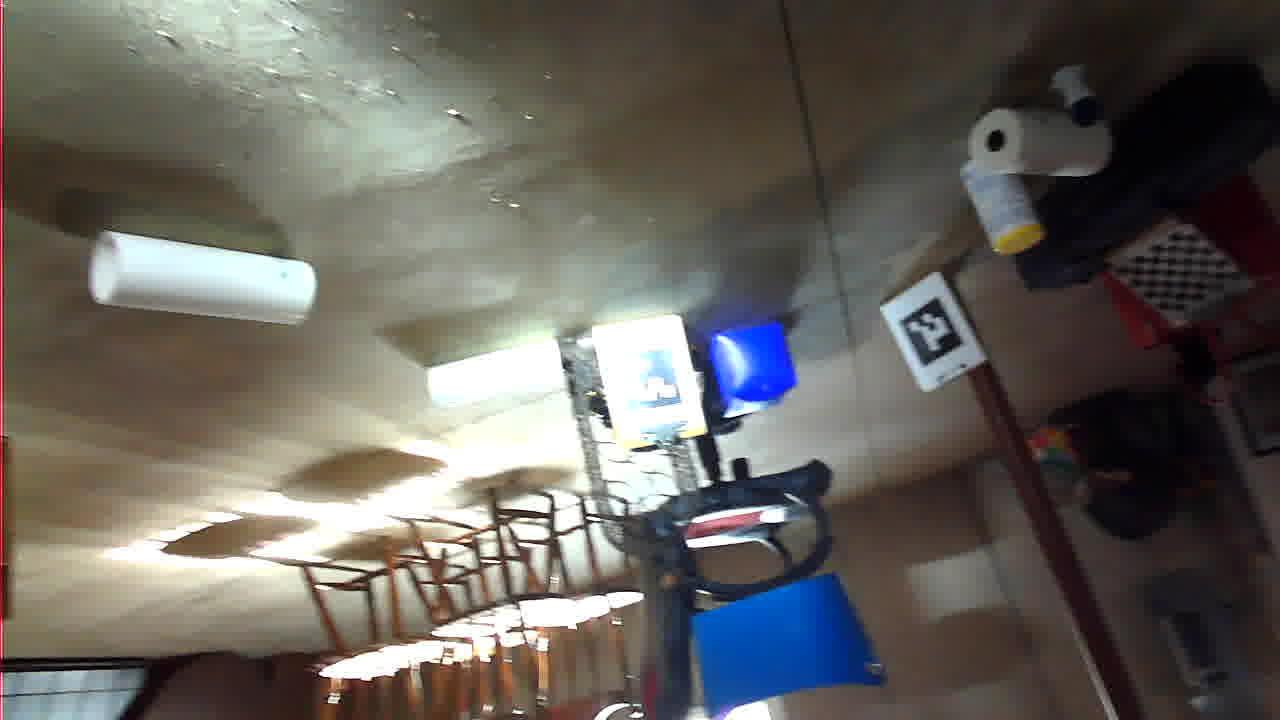coral: (965, 395, 1192, 490), (718, 312, 854, 380)
